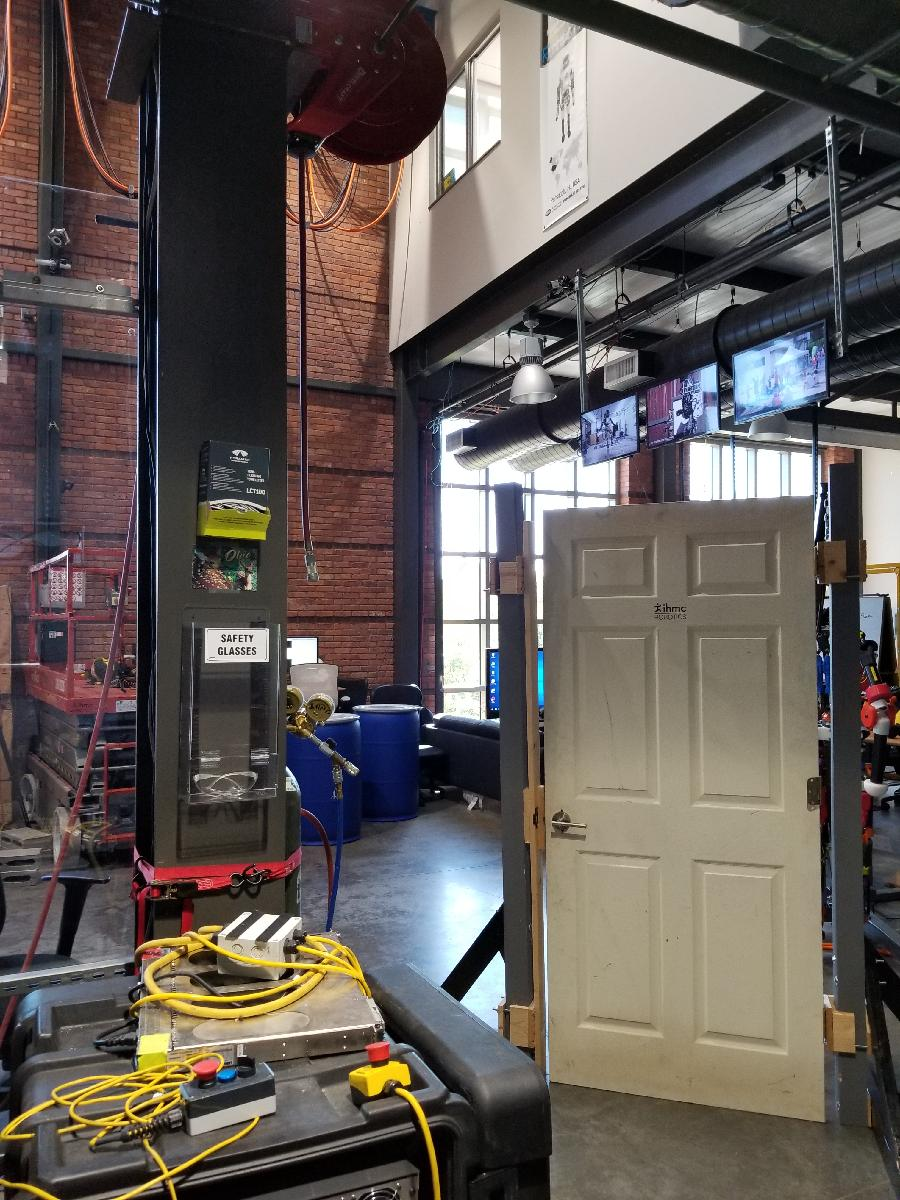door: (541, 494, 829, 1126)
doorHandle: (554, 811, 584, 833)
